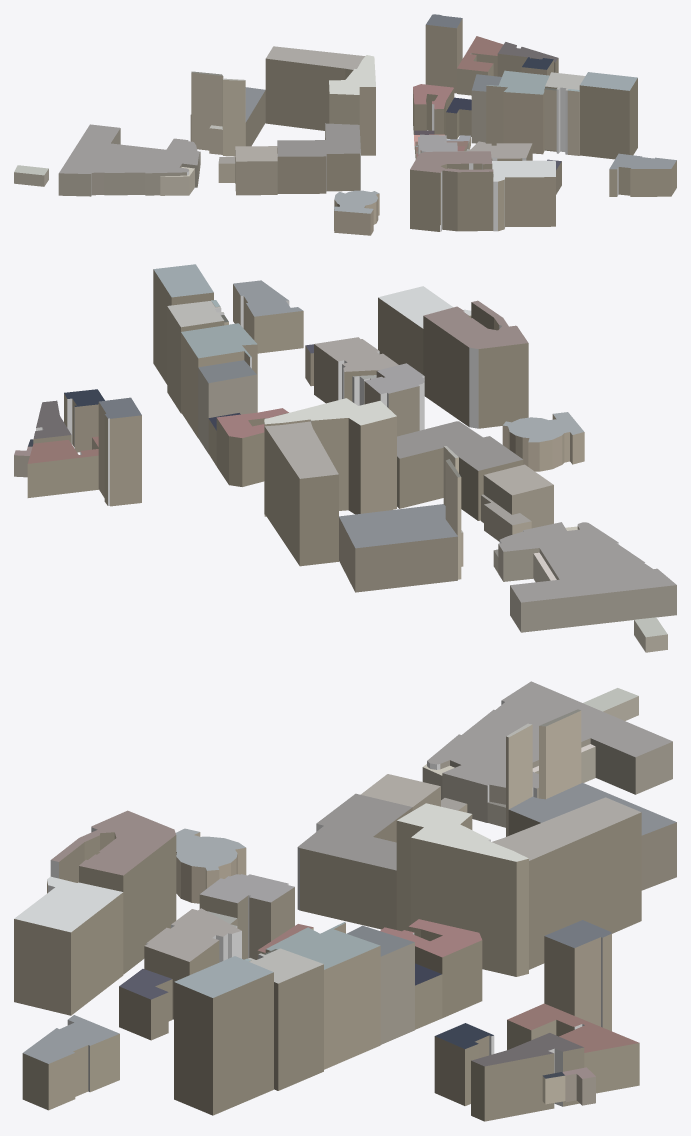
The picture shows the model from 3 angles, top to bottom: view 1: azimuth 30°, elevation 25°; view 2: azimuth 150°, elevation 25°; view 3: azimuth 270°, elevation 25°; orthographic projection. The views are drawn at different scales.
Parts seen in each view (by area): view 1: tuile; view 2: tuile; view 3: tuile.
Boxes of the visible parts, <box> form: tuile: <box>14,14,676,235</box>; tuile: <box>14,264,676,652</box>; tuile: <box>14,681,676,1121</box>.
Bounding box in the file's own units: 226 × 34.46 × 153.
